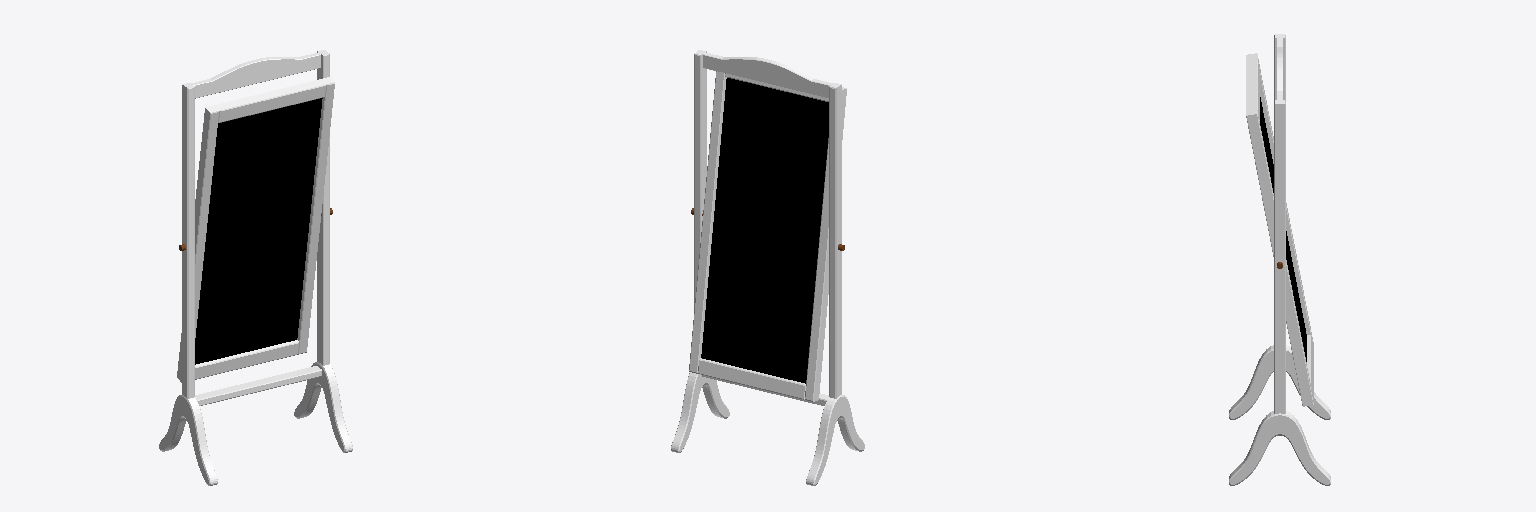
Rendered from mirror2.obj.
The picture shows the model from 3 angles: view 1: azimuth 30°, elevation 25°; view 2: azimuth 150°, elevation 25°; view 3: azimuth 270°, elevation 25°; orthographic projection.
Visible parts, largest first — view 1: mirror.001_surface, mirror, mirror.001; view 2: mirror.001_surface, mirror, mirror.001; view 3: mirror, mirror.001, mirror.001_surface.
Part boxes in pixels (left/top/right/bottom): mirror.001_surface: left=195, top=98, right=322, bottom=364; mirror: left=159, top=50, right=352, bottom=485; mirror.001: left=177, top=77, right=334, bottom=382; mirror.001_surface: left=701, top=78, right=828, bottom=383; mirror: left=671, top=50, right=864, bottom=485; mirror.001: left=689, top=71, right=846, bottom=401; mirror: left=1229, top=34, right=1330, bottom=485; mirror.001: left=1246, top=53, right=1313, bottom=406; mirror.001_surface: left=1260, top=97, right=1306, bottom=361.
Size of the model in its own units: 695 by 1717 by 410.